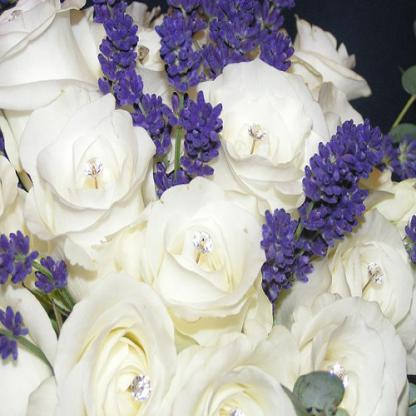ROSE-MAWAR: (1, 3, 416, 415)
